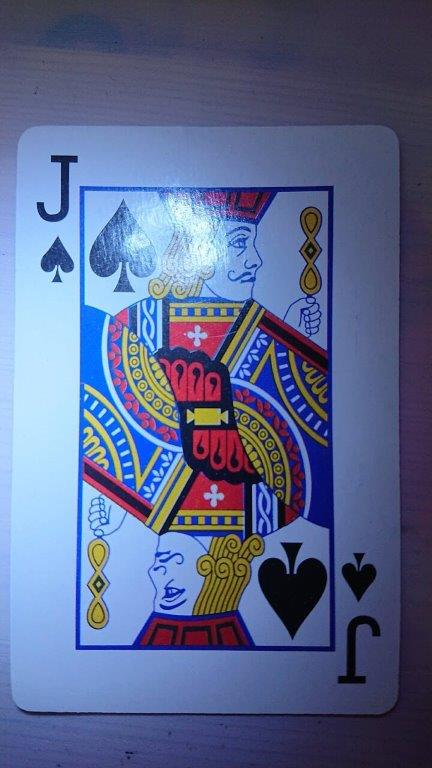JS: (7, 122, 403, 718)
